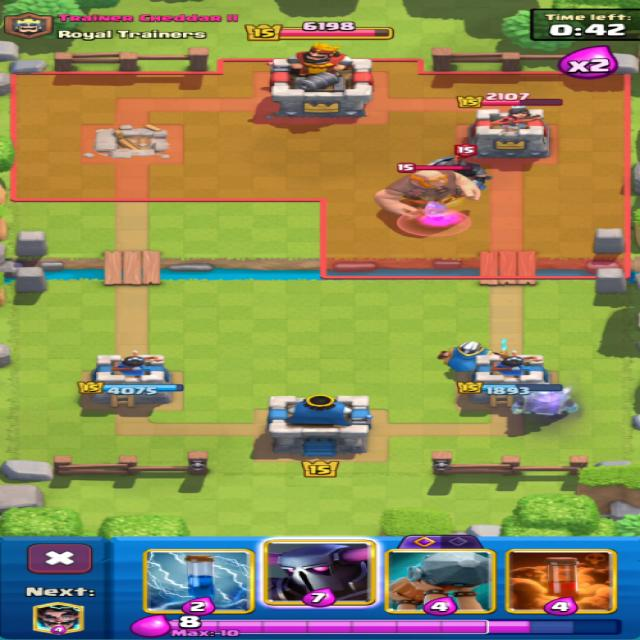Enemy-DarkPrince-Shield: (430, 143, 490, 190)
Enemy-Giant: (373, 170, 482, 220)
Enemy-KingTower-Activated: (271, 43, 371, 116)
Enemy-PrincessTower: (467, 106, 549, 157)
Player-KingTower: (266, 394, 372, 456)
Player-MagicArcher: (438, 341, 497, 371), (502, 339, 507, 350)
Player-PrincessTower: (78, 351, 183, 407), (456, 350, 560, 406)
Player-RoyalGhost-Invisible-Evo: (512, 388, 577, 416)
